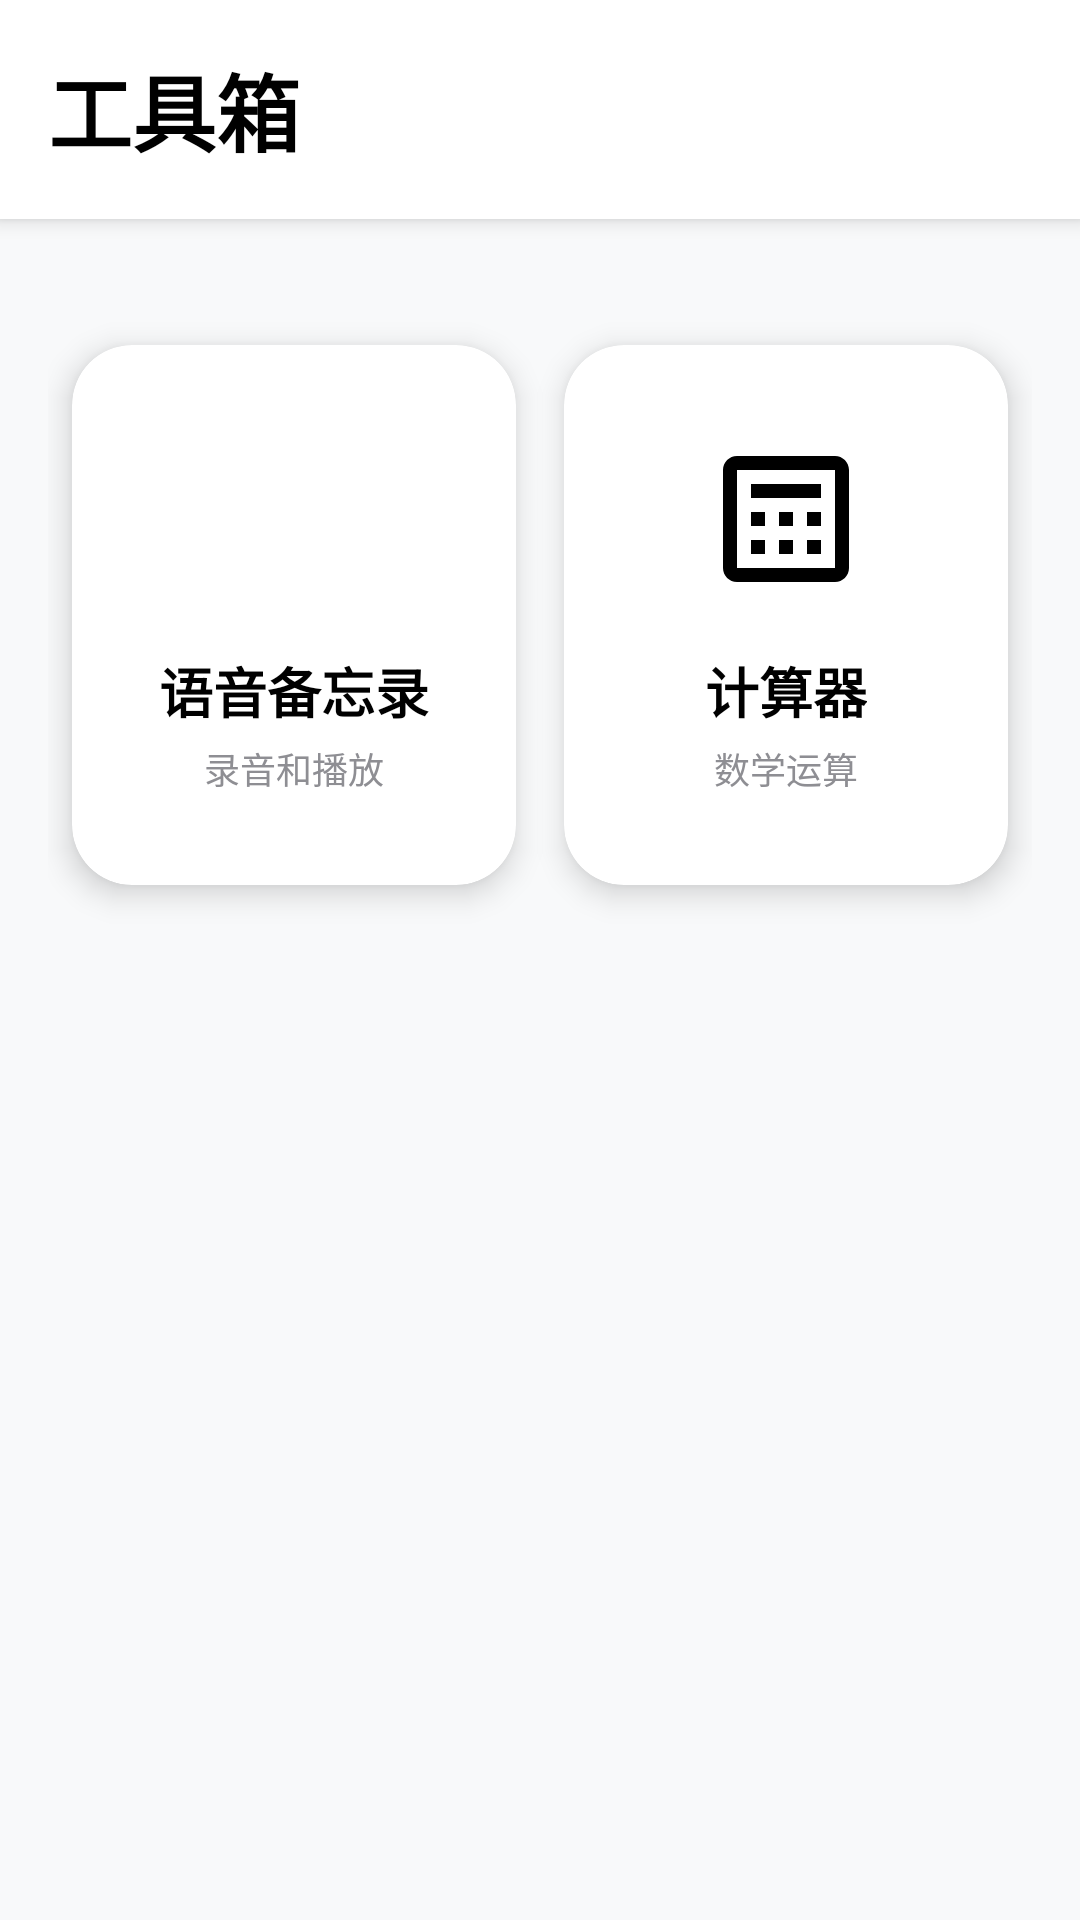

Icon bounding boxes for this 1080x1920 phone screenshot, format {"left": x1, "top": y1, "right": x2, "bottom": y2}:
calculator: {"left": 723, "top": 456, "right": 849, "bottom": 582}
